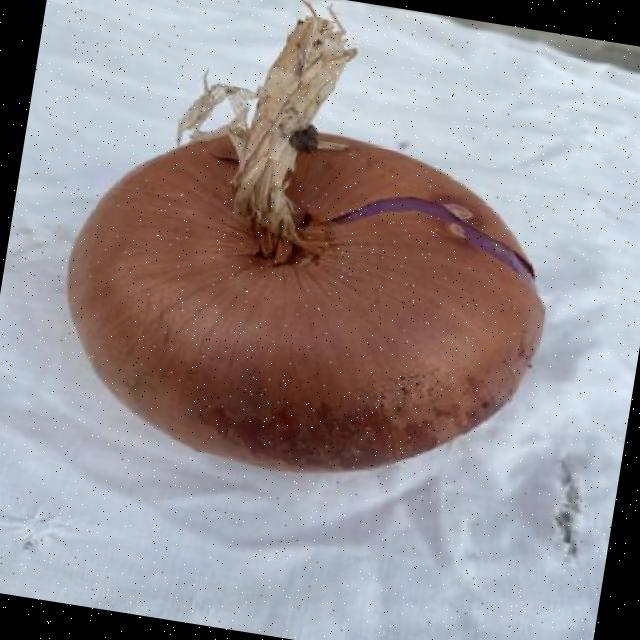Onion: (68, 9, 546, 472)
